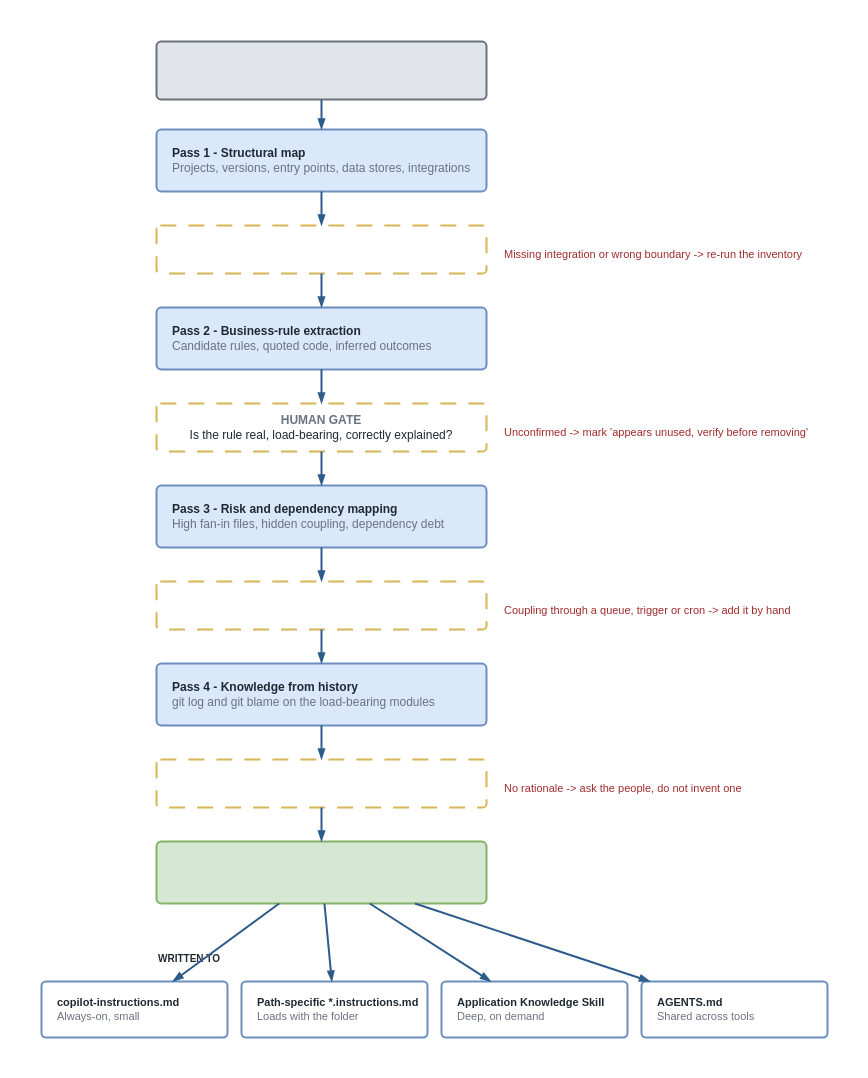
Image size: 868x1078. Some labels were removed from this diagram. The shapes that lost their labels are listed below. From the top down, each one's centre as x and y in pixels, then its label:
point (321, 70): Legacy repo + git history + people Everything the knowledge is scattered across
point (321, 249): HUMAN GATE Are the module boundaries real?
point (321, 605): HUMAN GATE Does the blast radius match reality?
point (321, 783): HUMAN GATE Does the history actually explain the why?
point (321, 872): Verified knowledge Findings a person has confirmed
